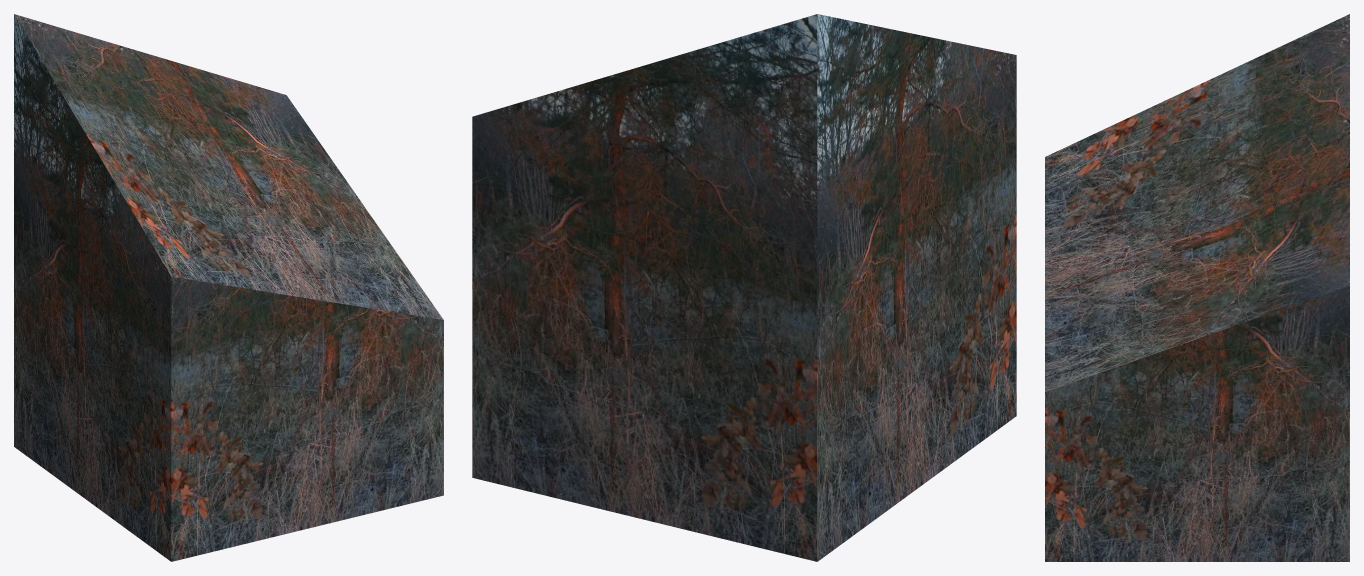
3 renders of one model, left to right at view 1: azimuth 30°, elevation 25°; view 2: azimuth 150°, elevation 25°; view 3: azimuth 270°, elevation 25°, orthographic. The views are drawn at different scales.
Visible parts, largest first — view 1: Cube; view 2: Cube; view 3: Cube.
Part boxes in pixels (x1,y1,x2,y2): Cube: (14, 14, 443, 561); Cube: (472, 14, 1016, 561); Cube: (1045, 14, 1349, 561).
Bounding box in the file's own units: 2 × 3.04 × 2.
Materials: 1 (1 with a texture image).
